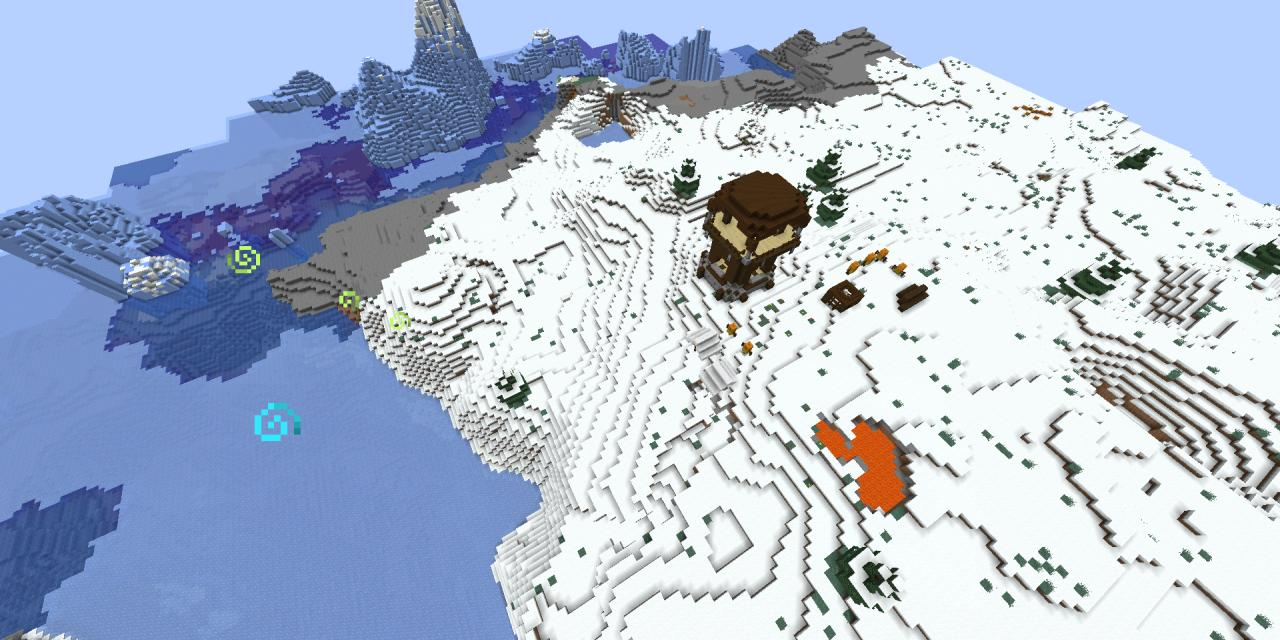pillager outpost: (690, 158, 822, 313)
